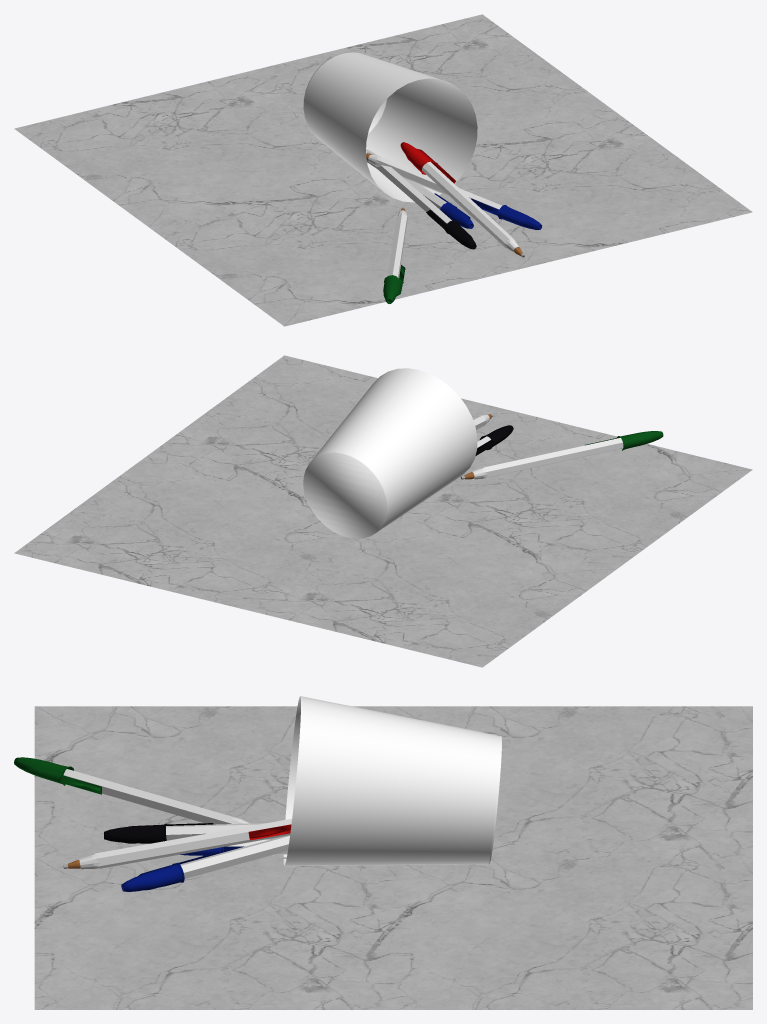
File: bicpen.glb
3 renders of one model, top to bottom at view 1: azimuth 30°, elevation 25°; view 2: azimuth 150°, elevation 25°; view 3: azimuth 270°, elevation 25°, orthographic. The views are drawn at different scales.
Visible parts, largest first — view 1: Plane, cup, PEN SHELL.003, PEN SHELL.002, PEN SHELL.001, PEN SHELL.004, lid.002, lid.001, lid.003; view 2: Plane, cup, PEN SHELL.004, lid.004; view 3: Plane, cup, PEN SHELL.003, PEN SHELL.004, PEN SHELL.002, lid.004, lid.002, lid.001, PEN SHELL.001.
Boxes of the visible parts, box(x1,y1,x2,y2) form: Plane: box(14, 14, 752, 326); cup: box(303, 52, 477, 202); PEN SHELL.003: box(422, 161, 520, 252); PEN SHELL.002: box(368, 154, 501, 215); PEN SHELL.001: box(374, 165, 451, 223); PEN SHELL.004: box(387, 210, 407, 277); lid.002: box(471, 198, 541, 229); lid.001: box(426, 209, 476, 249); lid.003: box(400, 142, 455, 183); Plane: box(14, 355, 752, 667); cup: box(303, 368, 477, 538); PEN SHELL.004: box(471, 438, 623, 479); lid.004: box(585, 431, 663, 450); Plane: box(34, 706, 752, 1009); cup: box(283, 696, 501, 866); PEN SHELL.003: box(79, 818, 291, 869); PEN SHELL.004: box(63, 769, 249, 824); PEN SHELL.002: box(180, 835, 289, 878); lid.004: box(14, 757, 101, 794); lid.002: box(121, 852, 218, 891); lid.001: box(104, 823, 213, 843); PEN SHELL.001: box(166, 823, 277, 840).
Size of the model in its own units: 15.93 by 3.8 by 16.39.
Materials: 12 (1 with a texture image).
